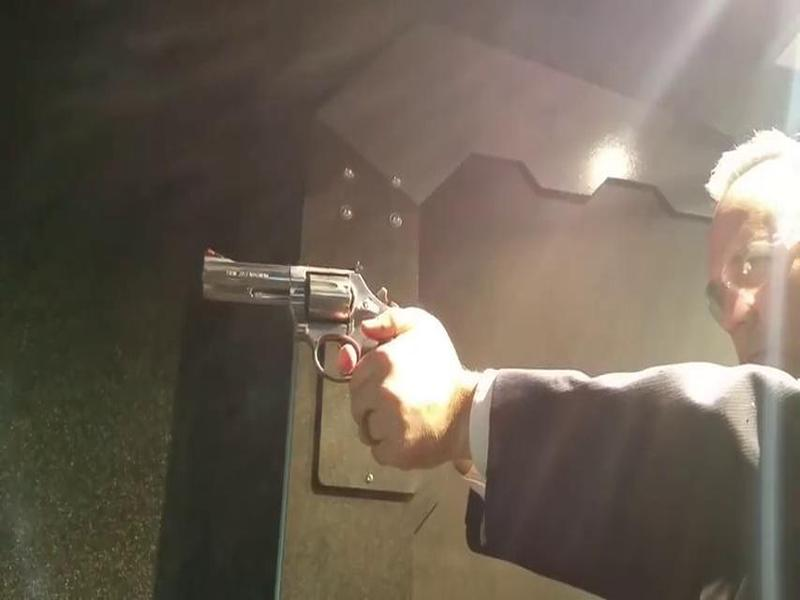Revolver: (163, 234, 406, 401)
